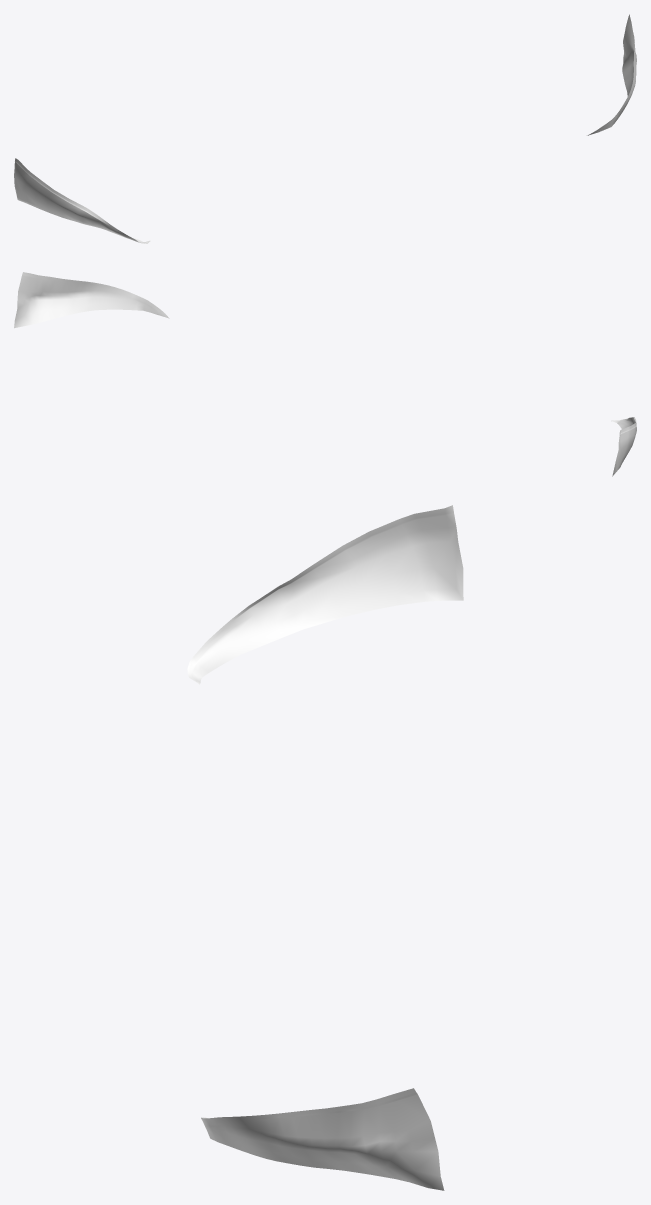
File: Pants_Flic_DONW_FACE.glb
3 renders of one model, top to bottom at view 1: azimuth 30°, elevation 25°; view 2: azimuth 150°, elevation 25°; view 3: azimuth 270°, elevation 25°, orthographic. The views are drawn at different scales.
Parts seen in each view (by area): view 1: Pants_Flic_DONW_FACE.001; view 2: Pants_Flic_DONW_FACE.001; view 3: Pants_Flic_DONW_FACE.001.
Part boxes in pixels (x1=…): Pants_Flic_DONW_FACE.001: x1=14, y1=14, x2=636, y2=243; Pants_Flic_DONW_FACE.001: x1=14, y1=272, x2=636, y2=476; Pants_Flic_DONW_FACE.001: x1=187, y1=505, x2=463, y2=1190.
Size of the model in its own units: 0.7591 by 0.0731 by 0.1496.
Materials: 2 (2 with a texture image).
